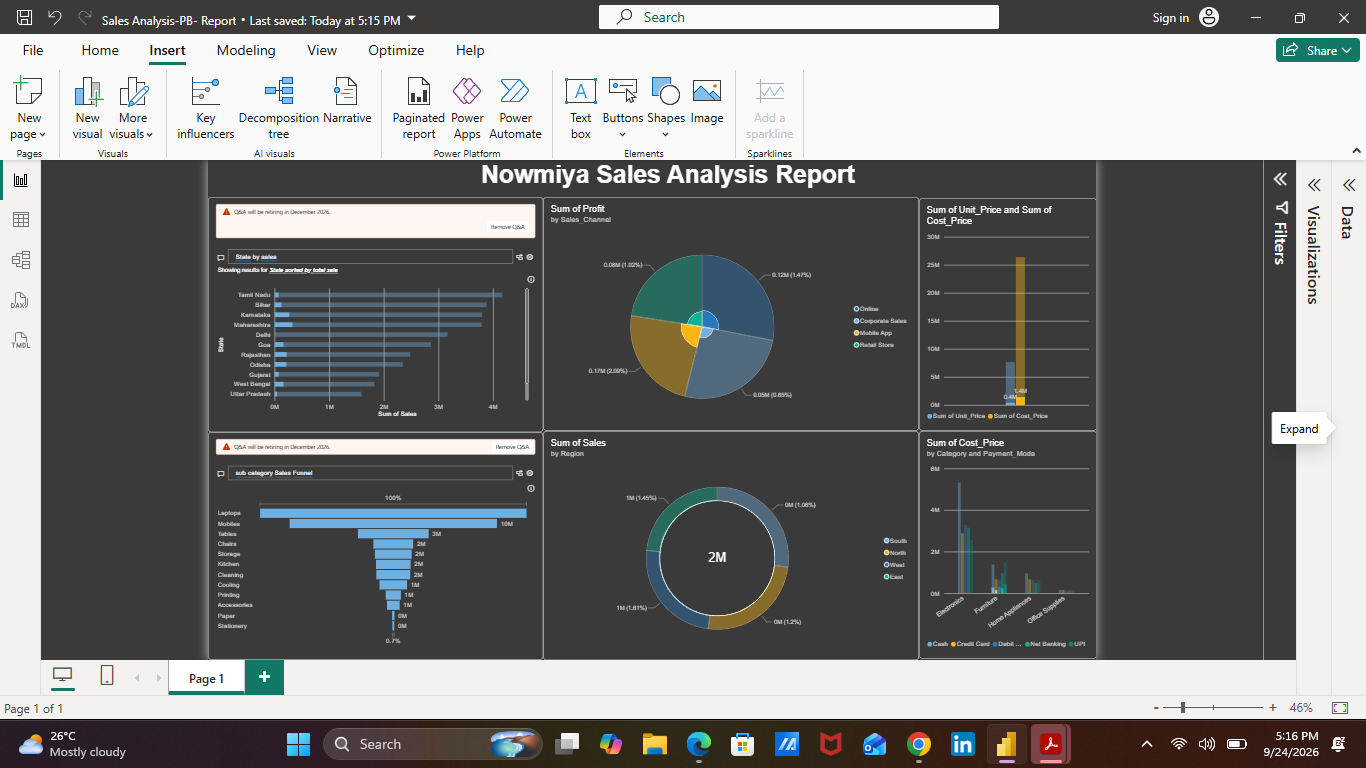

This screenshot's page, from the dashboard's own definition file:
{"tool":"powerbi","page":{"name":"Page 1","canvas":[1920,1080],"ordinal":0},"visuals":[{"type":"donutChart","fields":{"Category":["Sales_Data.Region"],"Y":["Sum(Sales_Data.Sales)"]},"box":[723.6,585.4,812.2,494.6],"z":0},{"type":"qnaVisual","box":[0,587.5,723.6,492.5],"z":1000},{"type":"pieChart","fields":{"Category":["Sales_Data.Sales_Channel"],"Y":["Sum(Sales_Data.Profit)"]},"box":[723.6,79.9,812.2,505.4],"z":2000},{"type":"qnaVisual","box":[0,79.9,723.6,507.6],"z":3000},{"type":"clusteredColumnChart","fields":{"Category":["Sales_Data.Category"],"Series":["Sales_Data.Payment_Mode"],"Y":["Sum(Sales_Data.Cost_Price)"]},"box":[1535.8,585.4,384.5,492.5],"z":4000},{"type":"clusteredColumnChart","fields":{"Y":["Sum(Sales_Data.Unit_Price)","Sum(Sales_Data.Cost_Price)"]},"box":[1535.8,82.1,384.5,503.3],"z":5000},{"type":"textbox","box":[100,100,300,300],"z":6000},{"type":"textbox","box":[100,100,300,300],"z":7000},{"type":"textbox","box":[100,100,300,300],"z":8000},{"type":"textbox","box":[589.7,0,1265.8,79.9],"z":10000}]}

Visuals, with their boxes on the page's 1920x1080 design canvas (x1, y1, x2, y2). These are canvas units, not pixel positions in the 1366x768 screenshot, which may show the page scaled, cropped or inside an application window:
donutChart - Sales_Data.Region x Sum(Sales_Data.Sales): select_region(724, 585, 1536, 1080)
qnaVisual: select_region(0, 588, 724, 1080)
pieChart - Sales_Data.Sales_Channel x Sum(Sales_Data.Profit): select_region(724, 80, 1536, 585)
qnaVisual: select_region(0, 80, 724, 588)
clusteredColumnChart - Sales_Data.Category x Sales_Data.Payment_Mode: select_region(1536, 585, 1920, 1078)
clusteredColumnChart - Sum(Sales_Data.Unit_Price) x Sum(Sales_Data.Cost_Price): select_region(1536, 82, 1920, 585)
textbox: select_region(100, 100, 400, 400)
textbox: select_region(100, 100, 400, 400)
textbox: select_region(100, 100, 400, 400)
textbox: select_region(590, 0, 1856, 80)
